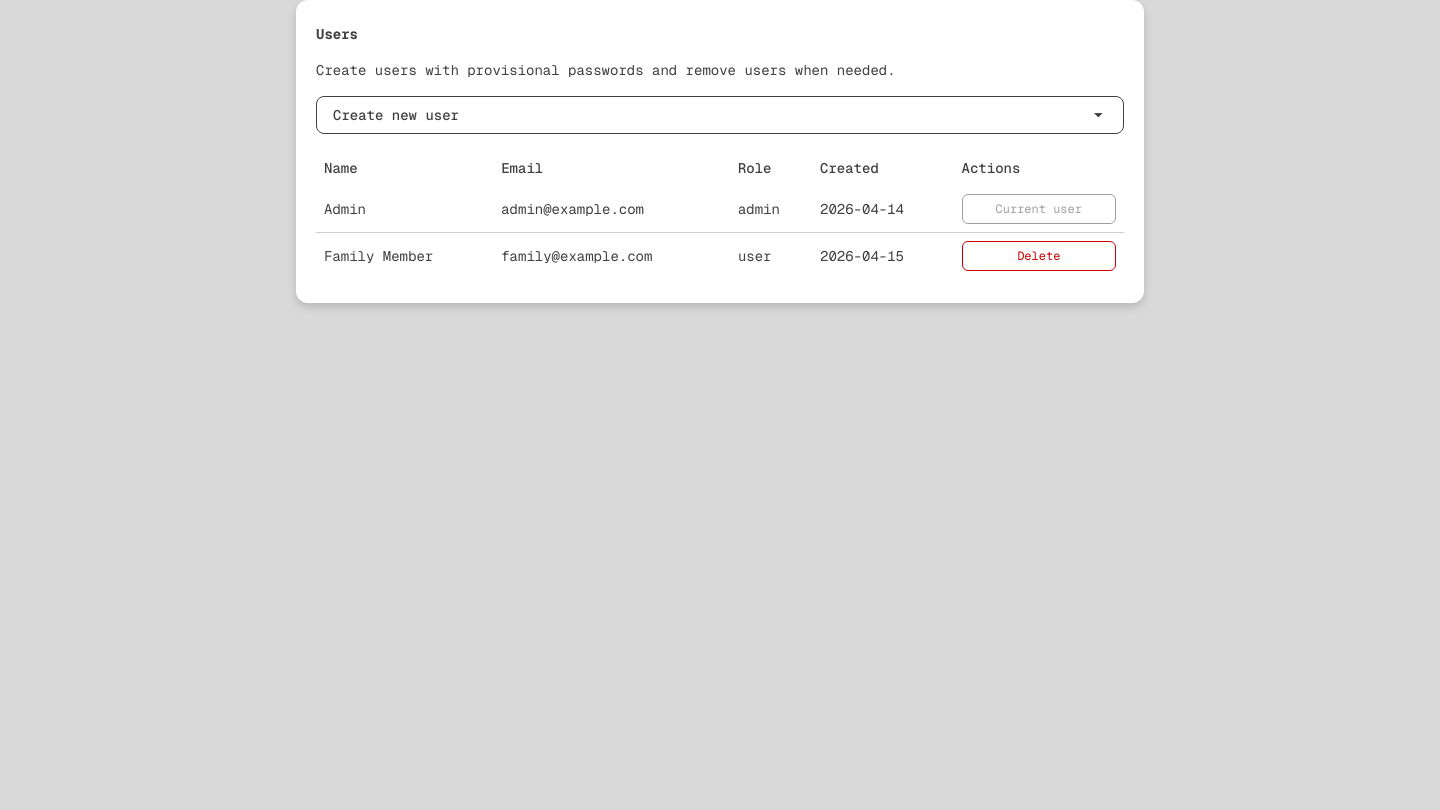
Test case: admin users section › deletes a user from the table
The image size is (1440, 810).
Click the button "Delete".
click(1039, 256)  # box [962,241,1116,271]
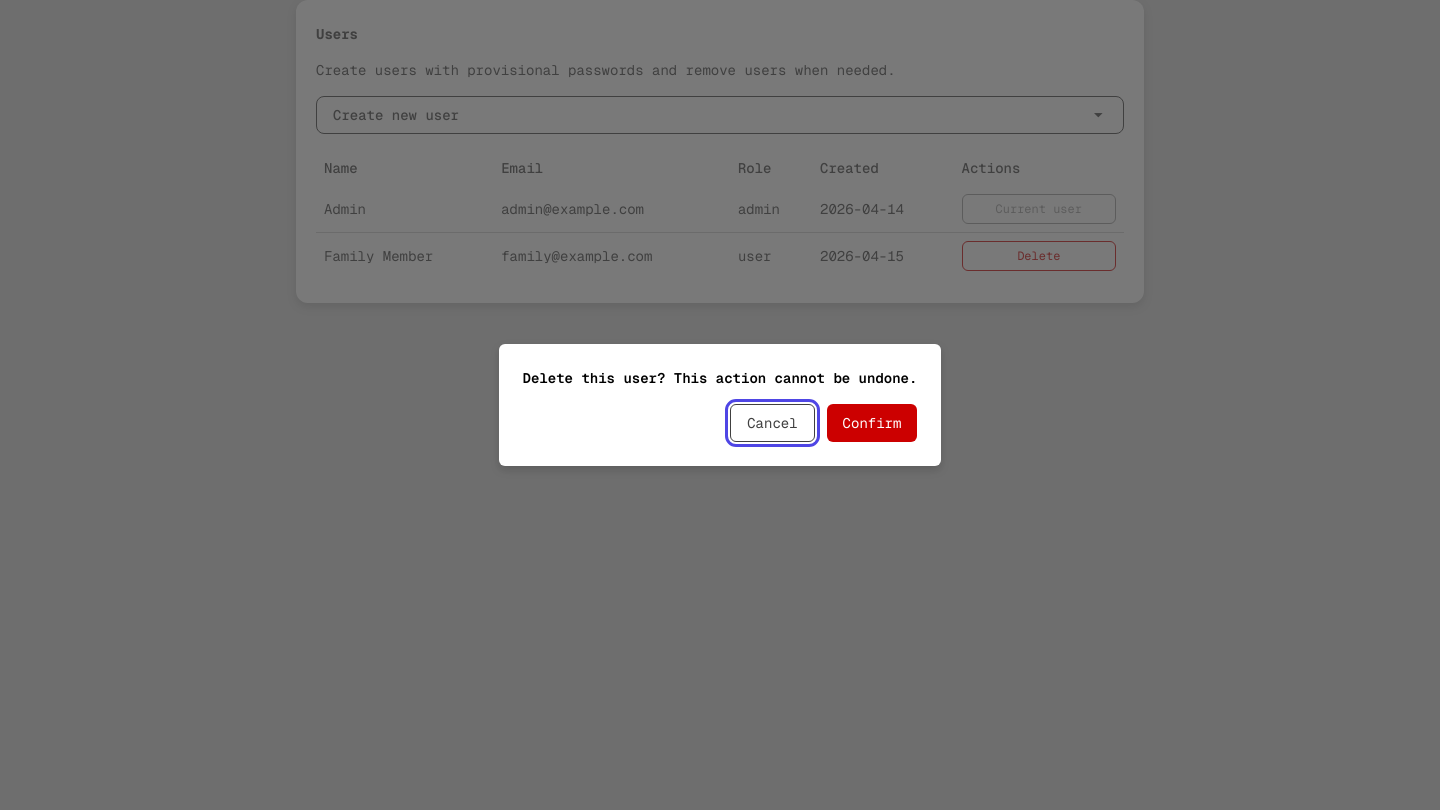
Click the button "Confirm".
click(872, 423)  # box [827,404,917,442]
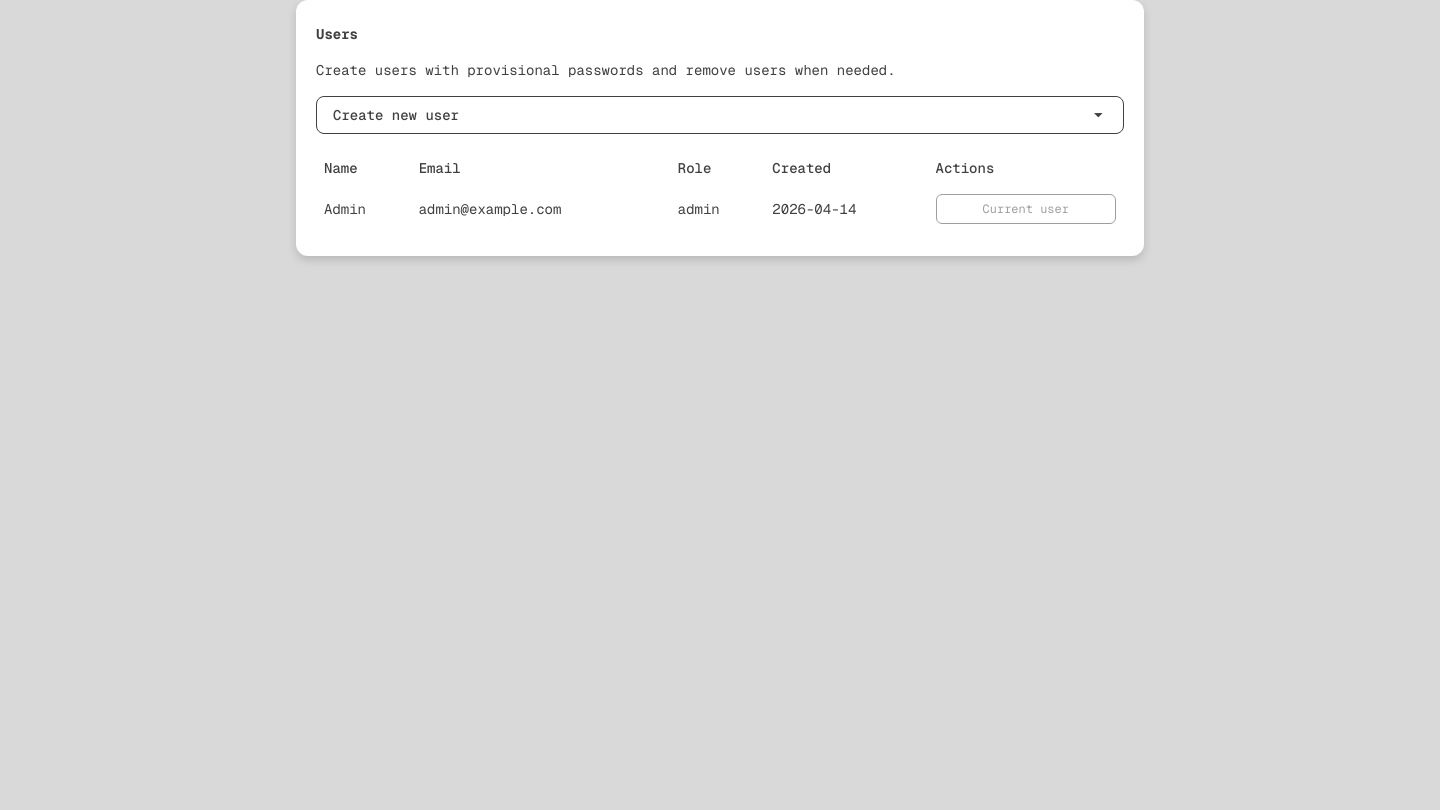
Expected: the text "family@example.com" is gone
